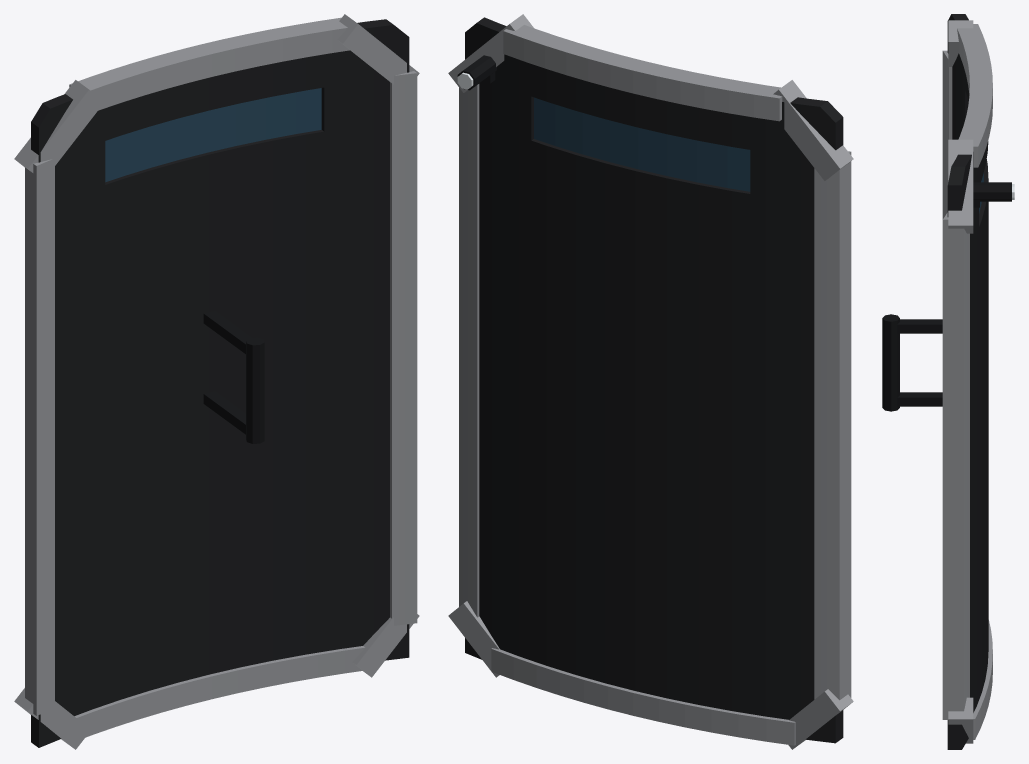
File: RiotShield.fbx
3 renders of one model, left to right at view 1: azimuth 30°, elevation 25°; view 2: azimuth 150°, elevation 25°; view 3: azimuth 270°, elevation 25°, orthographic. The views are drawn at different scales.
Visible parts, largest first — view 1: Shield, Rim, Window, Grip; view 2: Shield, Rim, Window, Light; view 3: Rim, Shield, Grip, Light.
Boxes of the visible parts, x1,y1,x2,y2 form: Shield: [31, 19, 409, 747]; Rim: [14, 14, 419, 749]; Window: [105, 88, 321, 182]; Grip: [203, 311, 264, 443]; Shield: [465, 17, 843, 743]; Rim: [448, 14, 853, 749]; Window: [534, 97, 750, 191]; Light: [457, 55, 496, 90]; Rim: [942, 20, 992, 743]; Shield: [947, 14, 988, 749]; Grip: [882, 314, 942, 411]; Light: [973, 182, 1011, 207].
Size of the model in its own units: 233 by 373 by 74.78.
